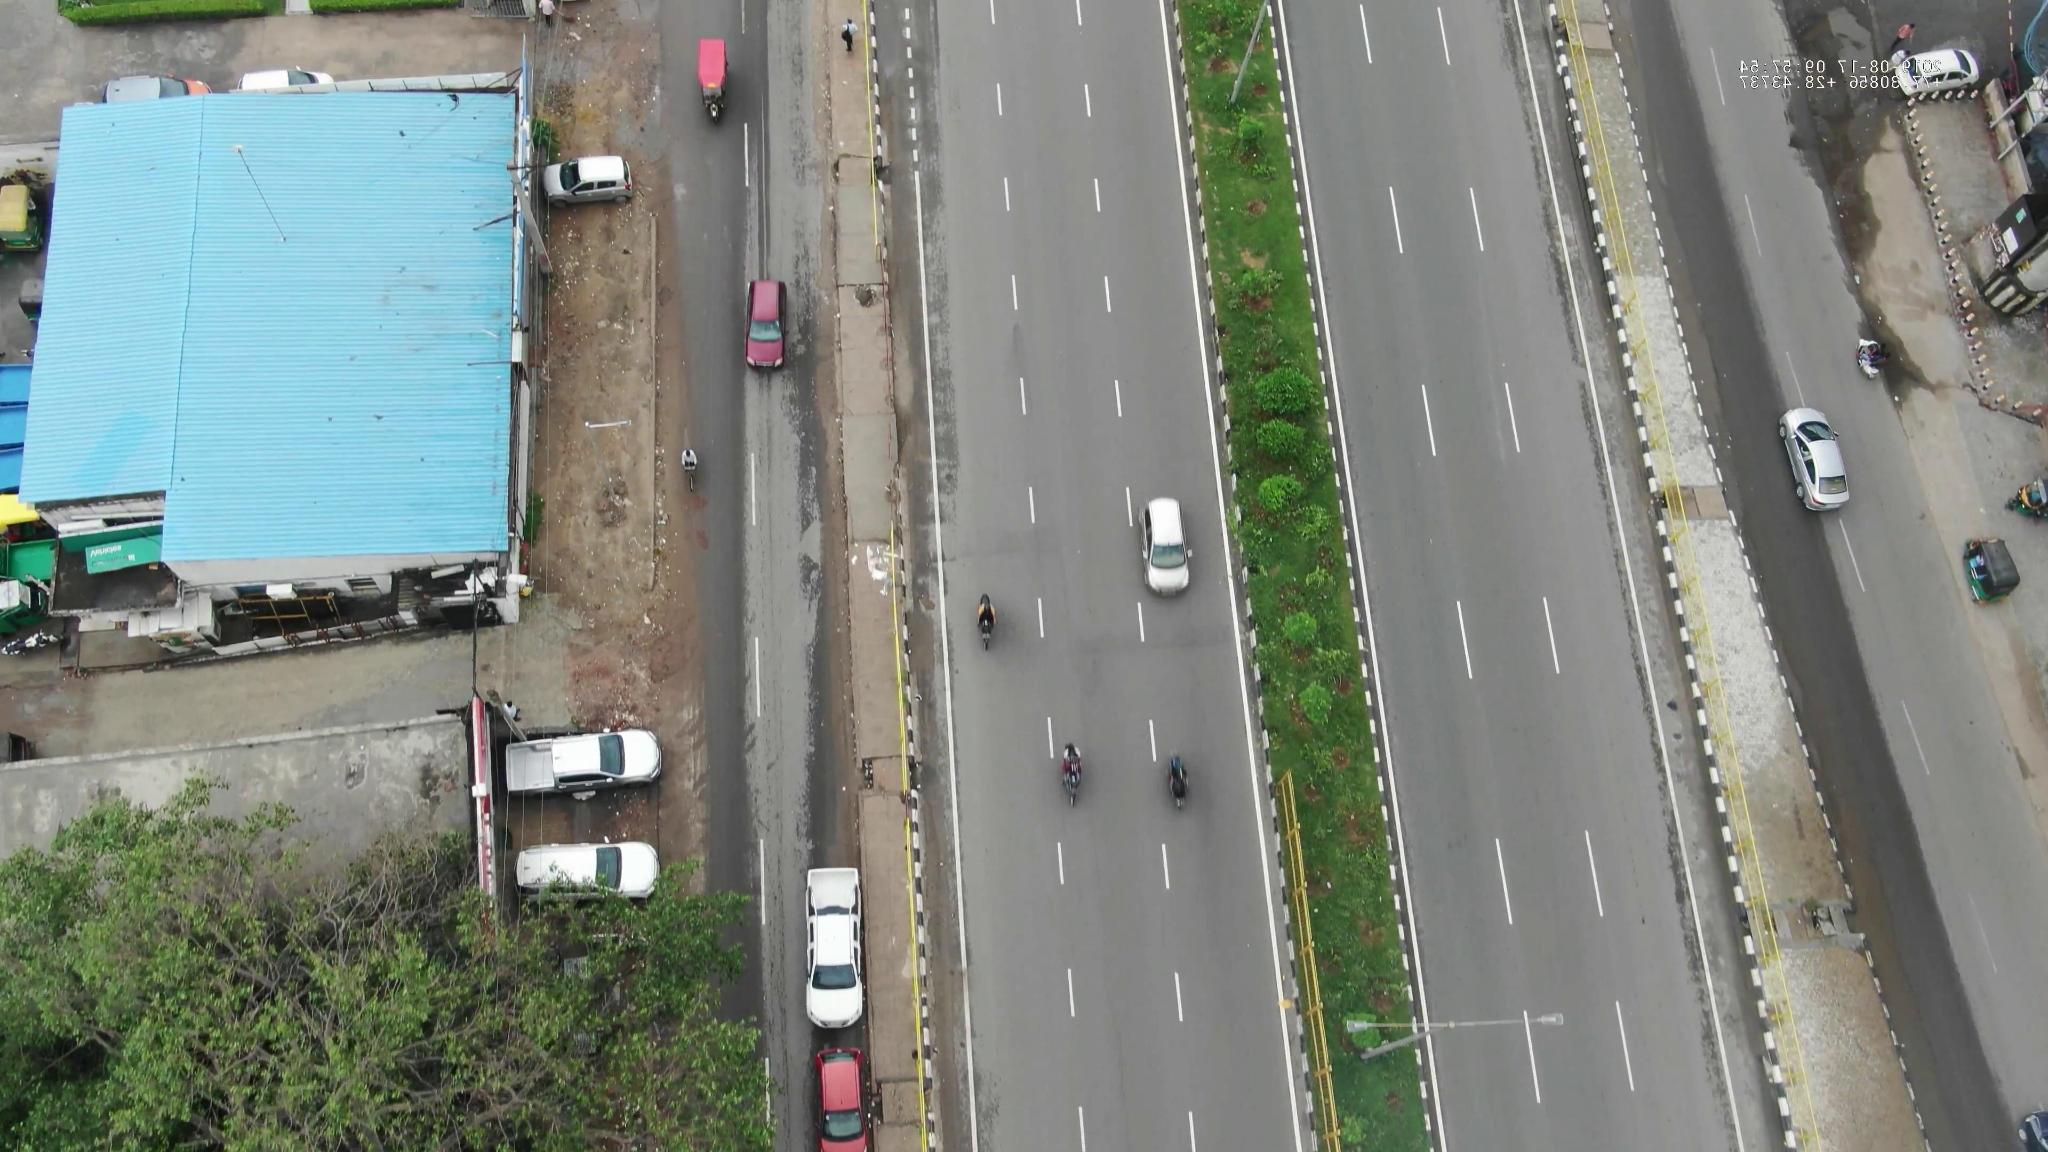Muddy_road: (646, 207, 702, 422), (657, 511, 715, 684)
